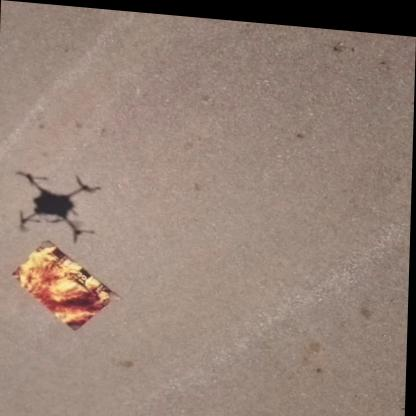fire-poster: (9, 236, 124, 333)
